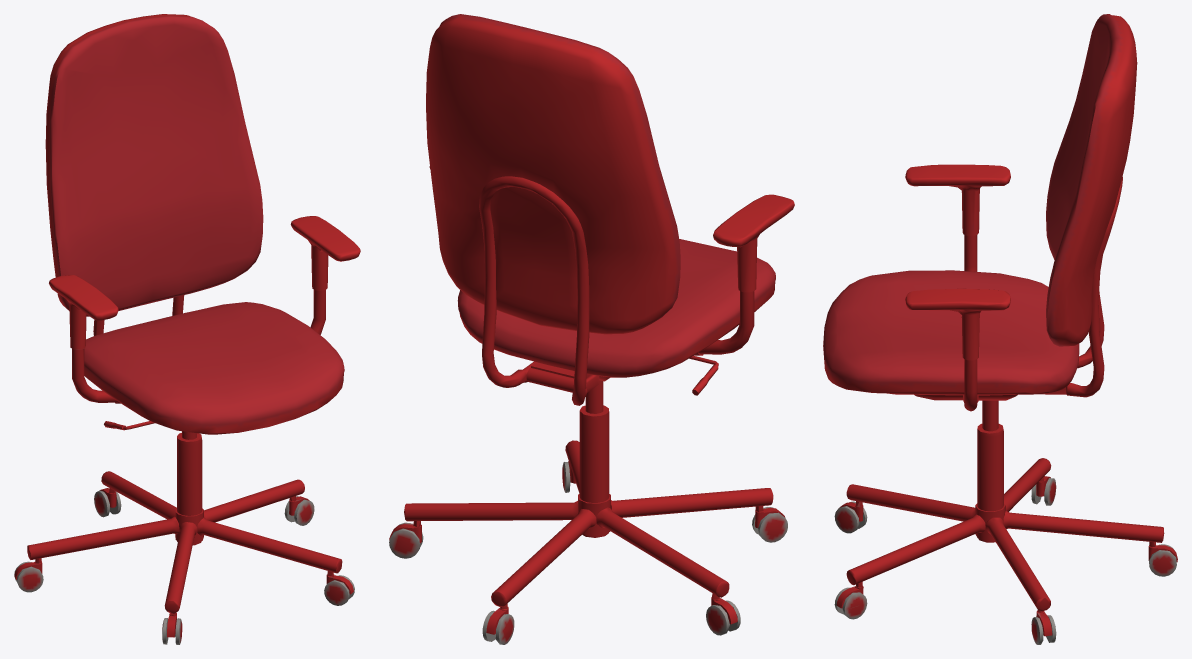
Rendered from SMÖRKULL.glb.
3 renders of one model, left to right at view 1: azimuth 30°, elevation 25°; view 2: azimuth 150°, elevation 25°; view 3: azimuth 270°, elevation 25°, orthographic. The views are drawn at different scales.
Visible parts, largest first — view 1: Mesh_0; view 2: Mesh_0; view 3: Mesh_0.
Boxes of the visible parts, x1,y1,x2,y2 form: Mesh_0: [14, 14, 360, 644]; Mesh_0: [389, 14, 794, 644]; Mesh_0: [823, 14, 1177, 644].
Bounding box in the file's own units: 0.6603 × 1.08 × 0.6489.
1 material, 1 textured.
